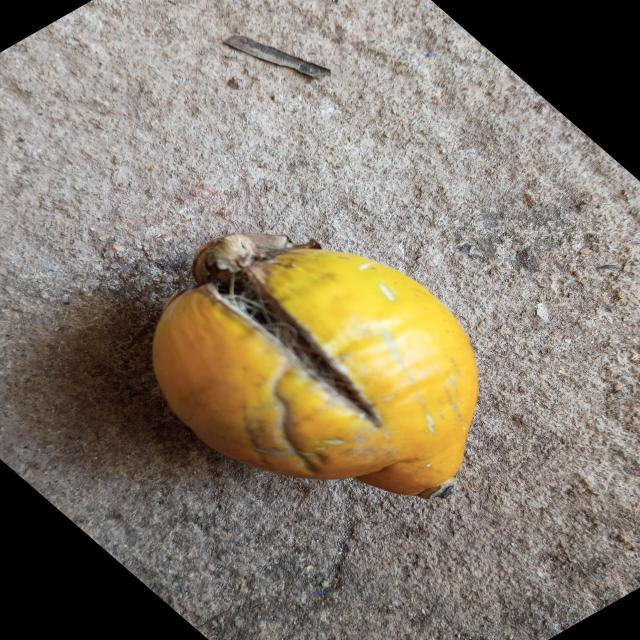damaged: (153, 233, 478, 499)
